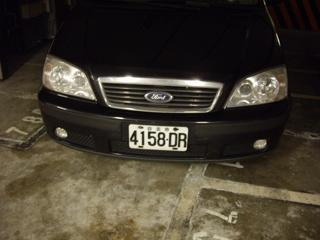plate: (127, 123, 190, 153)
